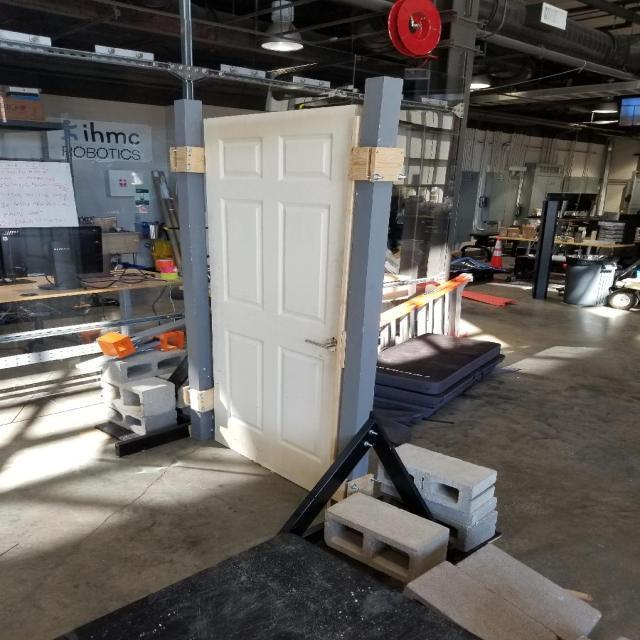door: (198, 104, 359, 502), (301, 329, 342, 356)
